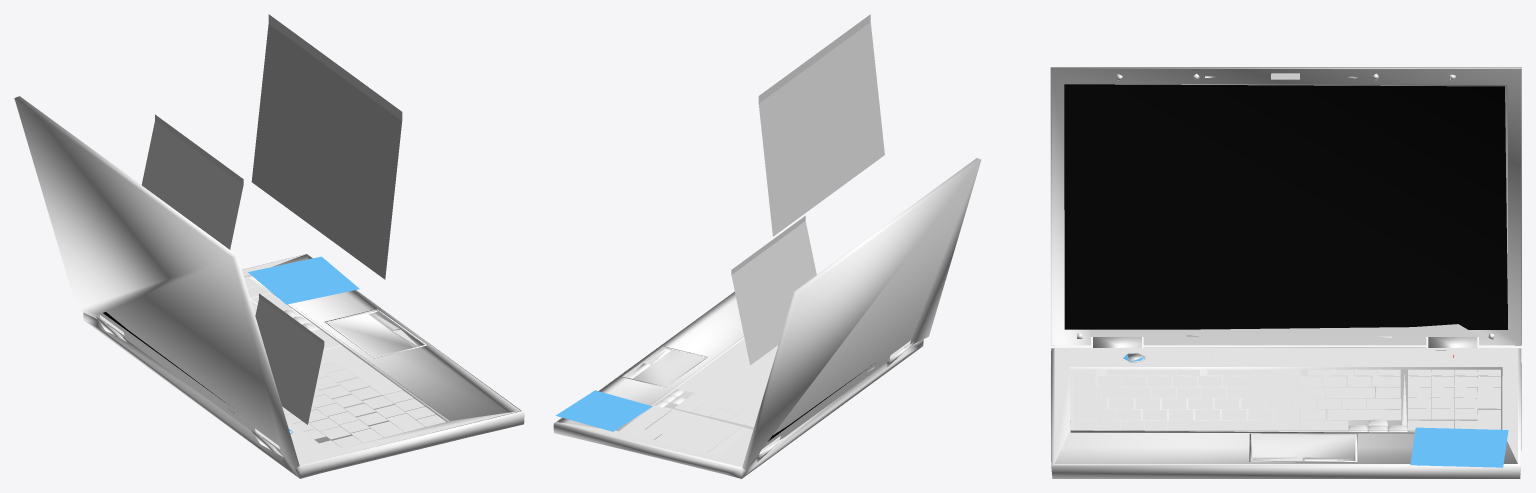
3 views of the same model, side by side, from view 1: azimuth 30°, elevation 25°; view 2: azimuth 150°, elevation 25°; view 3: azimuth 270°, elevation 25° (orthographic). The views are drawn at different scales.
Parts seen in each view (by area): view 1: Plane049, Plane.002, Plane.003; view 2: Plane049, Plane.002, Plane.003; view 3: Plane049.
Boxes of the visible parts, bbox=[...] form: Plane049: bbox=[14, 96, 524, 478]; Plane.002: bbox=[141, 24, 401, 424]; Plane.003: bbox=[155, 14, 402, 345]; Plane049: bbox=[553, 158, 981, 478]; Plane.002: bbox=[731, 22, 946, 365]; Plane.003: bbox=[731, 14, 870, 274]; Plane049: bbox=[1050, 67, 1521, 478].
Bounding box in the file's own units: 0.1064 × 0.1231 × 0.1463.
